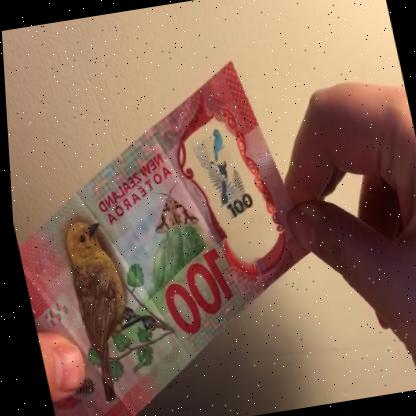100B: (182, 118, 261, 248)
